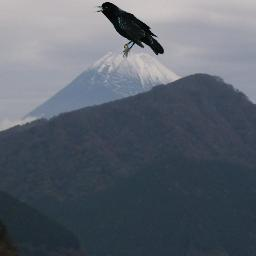Crow: (94, 2, 164, 58)
